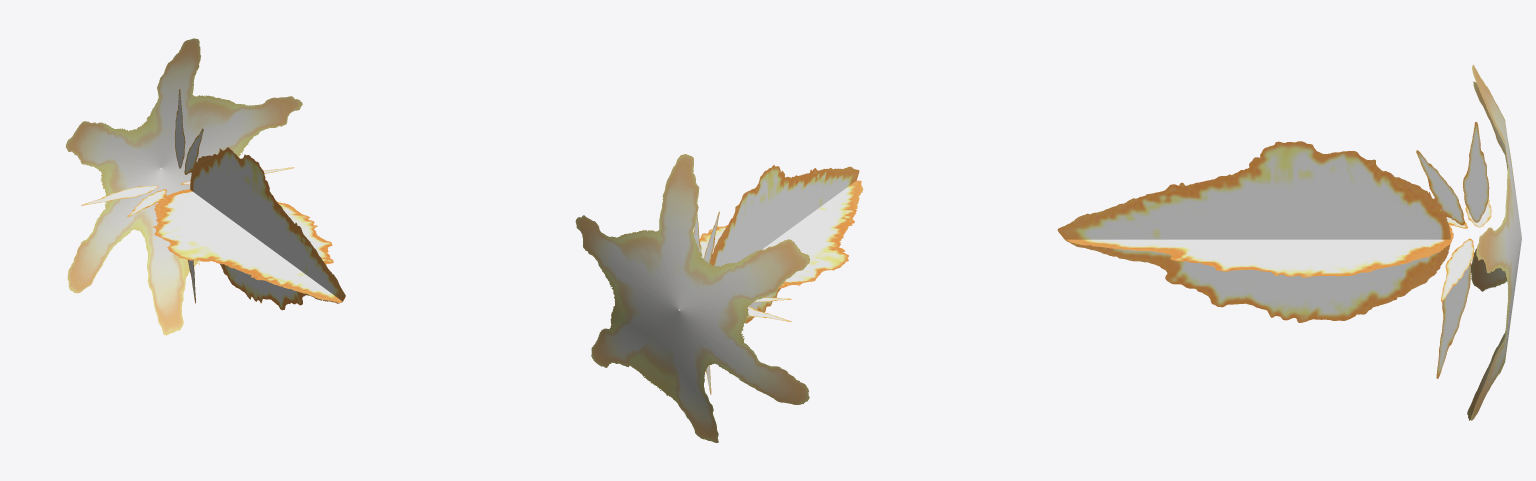
Rendered from muzzleFlash.fbx.
3 views of the same model, side by side, from view 1: azimuth 30°, elevation 25°; view 2: azimuth 150°, elevation 25°; view 3: azimuth 270°, elevation 25° (orthographic). The views are drawn at different scales.
Visible parts, largest first — view 1: MuzzleFlash; view 2: MuzzleFlash; view 3: MuzzleFlash.
Boxes of the visible parts, x1,y1,x2,y2 form: MuzzleFlash: (66, 38, 345, 335); MuzzleFlash: (575, 154, 863, 442); MuzzleFlash: (1057, 64, 1521, 420).
Bounding box in the file's own units: 2.02 × 2.04 × 2.11.
